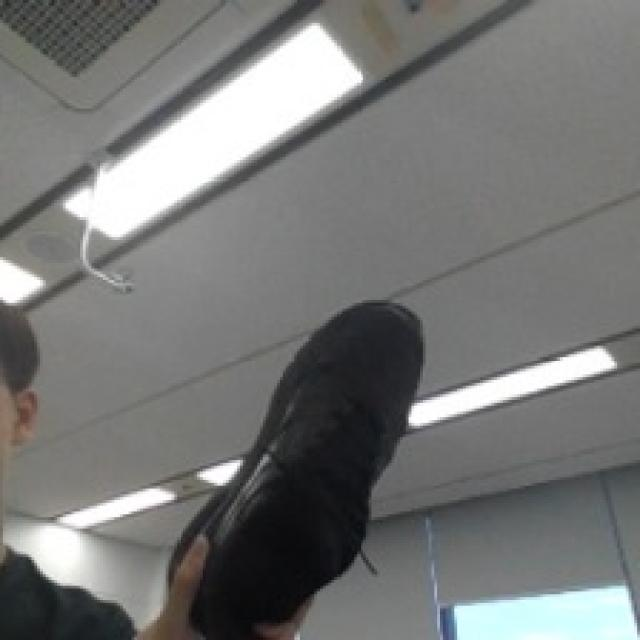shoe: (166, 300, 426, 640)
